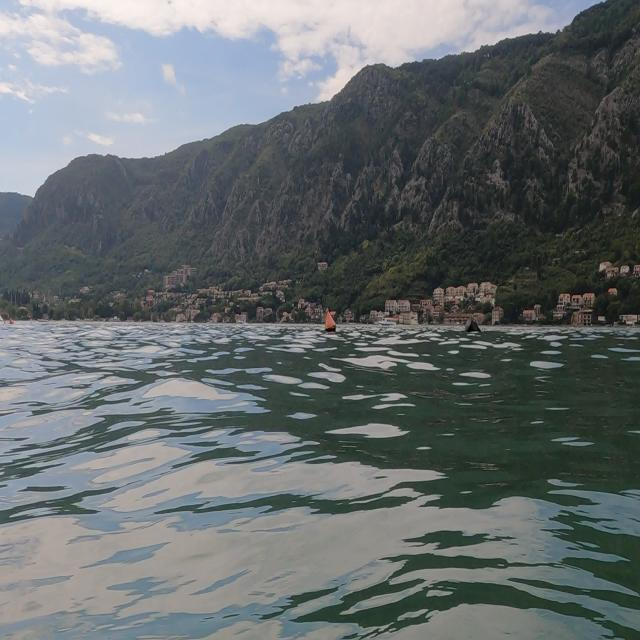buoy: (320, 304, 340, 340), (462, 313, 482, 338)
